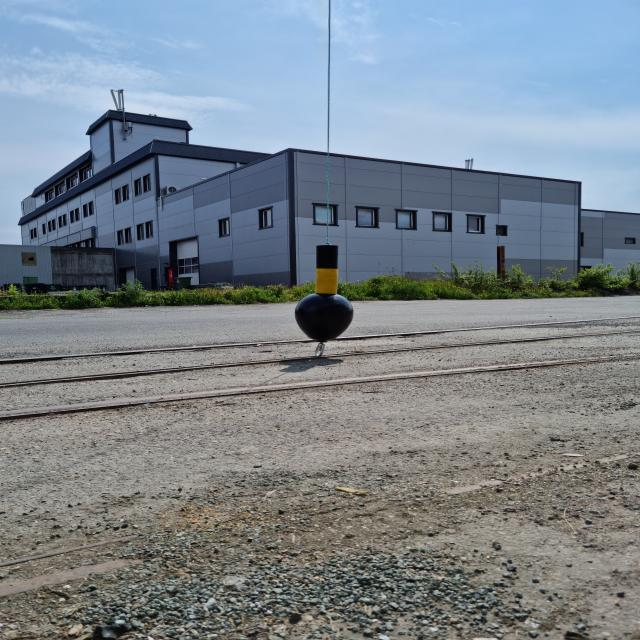east: (294, 245, 354, 341)
